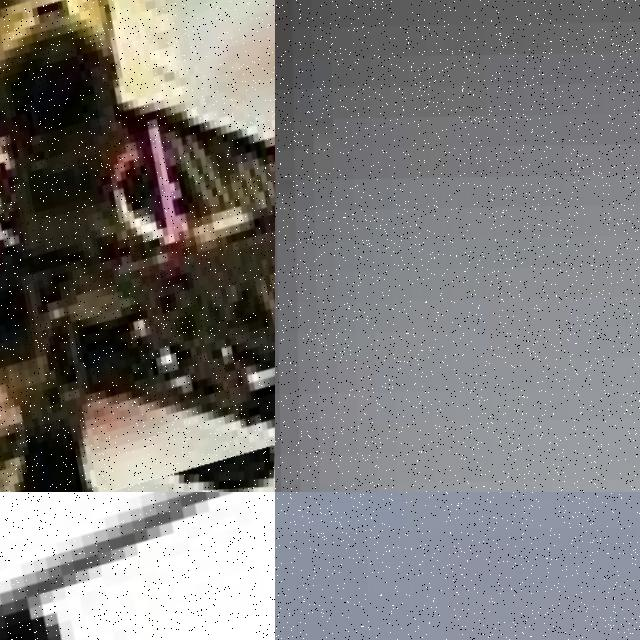drone: (0, 0, 275, 492), (0, 492, 275, 640)
